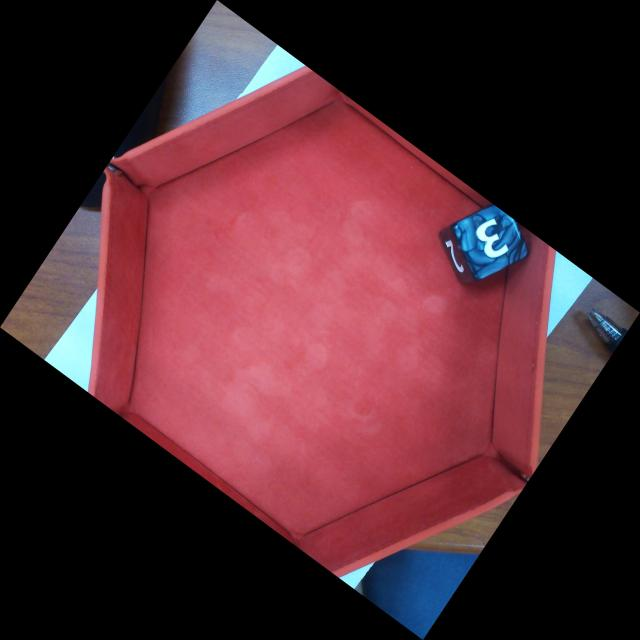dice: (454, 209, 530, 281)
